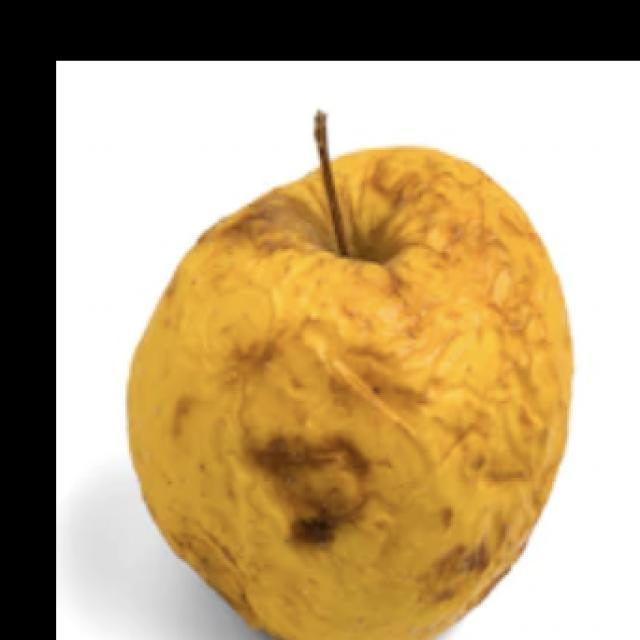Rotten: (135, 138, 587, 640)
